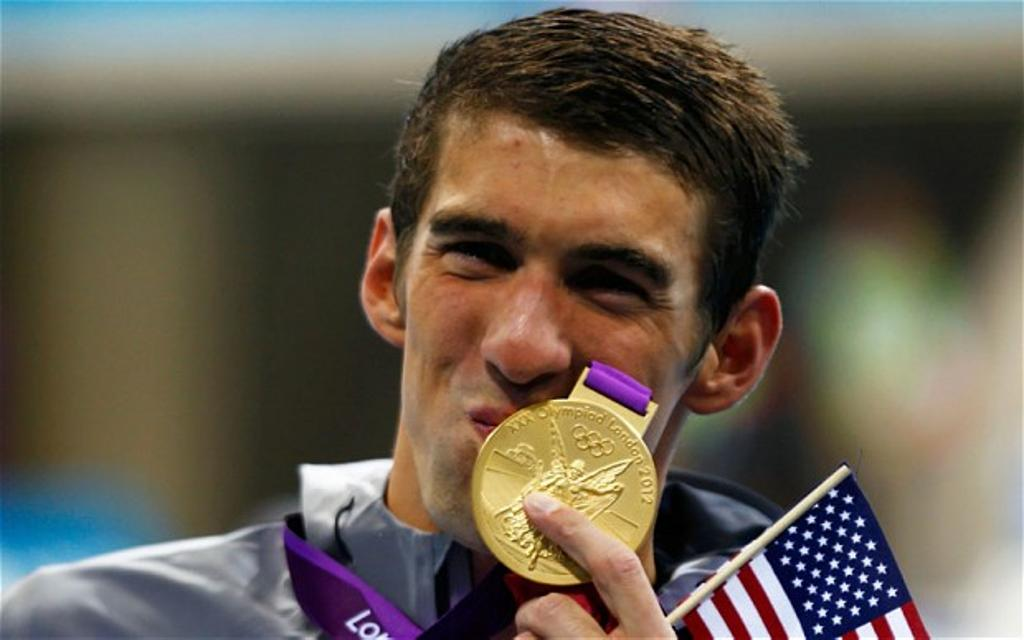face: (416, 146, 710, 544)
